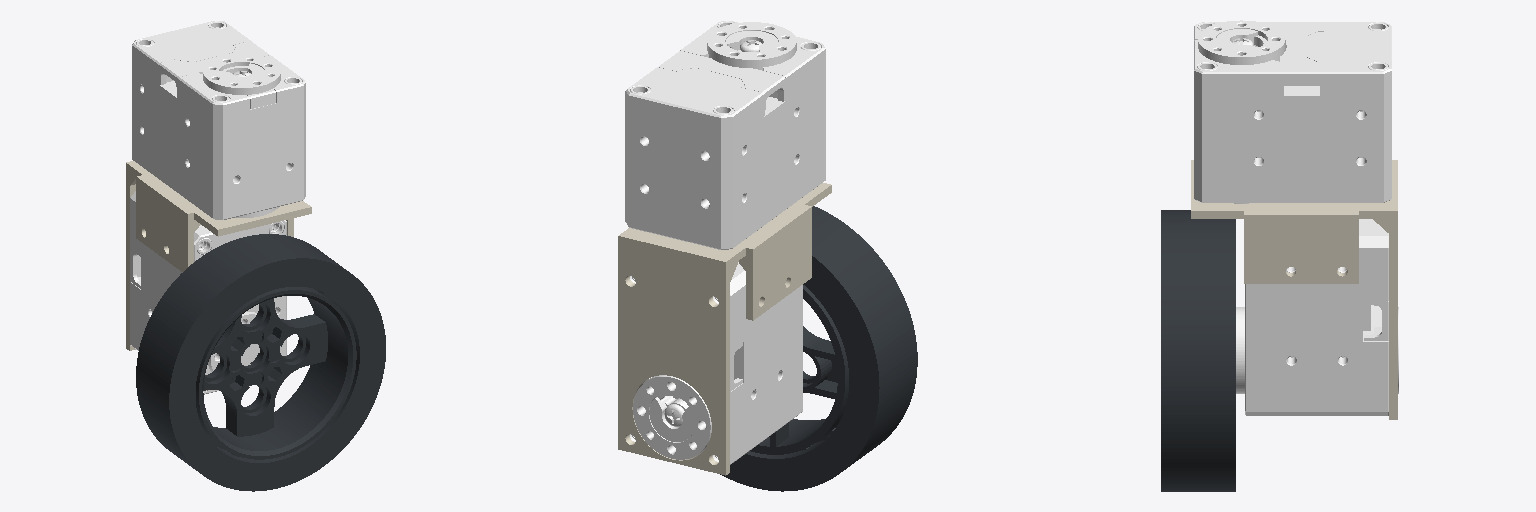
The robot description file, URDF, robot "swerve_drive":
<?xml version="1.0" ?>
<!-- =================================================================================== -->
<!-- |    This document was autogenerated by xacro from src/swerve_drive/urdf/swerve_drive.xacro | -->
<!-- |    EDITING THIS FILE BY HAND IS NOT RECOMMENDED                                 | -->
<!-- =================================================================================== -->
<robot name="swerve_drive" xmlns:controller="http://playerstage.sourceforge.net/gazebo/xmlschema/#controller" xmlns:interface="http://playerstage.sourceforge.net/gazebo/xmlschema/#interface" xmlns:sensor="http://playerstage.sourceforge.net/gazebo/xmlschema/#sensor" xmlns:xacro="http://www.ros.org/wiki/xacro">
  <link name="swerve_base_link"/>
  <joint name="swerve_base_joint" type="fixed">
    <parent link="swerve_base_link"/>
    <child link="xl430_steer"/>
    <origin xyz="0 0 0"/>
  </joint>
  <link name="xl430_steer">
    <visual>
      <origin rpy="0 3.14159265359 3.14159265359" xyz="0 0 0.018"/>
      <geometry>
        <mesh filename="package://swerve_drive/mesh/XL430.dae"/>
      </geometry>
    </visual>
    <collision>
      <origin rpy="0 3.14159265359 3.14159265359" xyz="0 0 0.018"/>
      <geometry>
        <mesh filename="package://swerve_drive/mesh/XL430.dae"/>
      </geometry>
    </collision>
  </link>
  <joint name="steer" type="revolute">
    <parent link="xl430_steer"/>
    <child link="xl430_bracket"/>
    <origin rpy="0 0 0" xyz="0 -0.0003 -0.0435"/>
    <axis xyz="0 0 -1"/>
    <limit effort="300" lower="-1.57" upper="1.57" velocity="0.1"/>
  </joint>
  <link name="xl430_bracket">
    <visual>
      <origin rpy="0 0 0" xyz="0 -0.001 0"/>
      <geometry>
        <mesh filename="package://swerve_drive/mesh/XL430_BRACKET.dae"/>
      </geometry>
    </visual>
    <collision>
      <origin rpy="0 0 0" xyz="0 -0.001 0"/>
      <geometry>
        <mesh filename="package://swerve_drive/mesh/XL430_BRACKET.dae"/>
      </geometry>
    </collision>
  </link>
  <joint name="bracket2drive" type="fixed">
    <parent link="xl430_bracket"/>
    <child link="xl430_drive"/>
    <origin xyz="0 0 0"/>
    <axis xyz="0 1 0"/>
  </joint>
  <link name="xl430_drive">
    <visual>
      <origin rpy="1.57079632679 3.14159265359 0" xyz="0 0.018 0.0"/>
      <geometry>
        <mesh filename="package://swerve_drive/mesh/XL430.dae"/>
      </geometry>
    </visual>
    <collision>
      <origin rpy="1.57079632679 3.14159265359 0" xyz="0 0.018 0.0"/>
      <geometry>
        <mesh filename="package://swerve_drive/mesh/XL430.dae"/>
      </geometry>
    </collision>
  </link>
  <joint name="drive" type="continuous">
    <parent link="xl430_drive"/>
    <child link="tb3_wheel"/>
    <origin rpy="0 0 0" xyz="0 0 0"/>
    <axis xyz="0 -1 0"/>
  </joint>
  <link name="tb3_wheel">
    <visual>
      <origin rpy="0 0 3.14159265359" xyz="0 -0.01 0"/>
      <geometry>
        <mesh filename="package://swerve_drive/mesh/TB3_WHEEL.dae"/>
      </geometry>
    </visual>
    <collision>
      <origin rpy="0 0 3.14159265359" xyz="0 -0.01 0"/>
      <geometry>
        <mesh filename="package://swerve_drive/mesh/TB3_WHEEL.dae"/>
      </geometry>
    </collision>
  </link>
</robot>

--- What the picture shows (computed from the rendered views, not written in the file) ---
The picture shows the robot from 3 angles, left to right: view 1: azimuth 30°, elevation 25°; view 2: azimuth 150°, elevation 25°; view 3: azimuth 270°, elevation 25°; orthographic projection.
Model swerve_drive with 5 links and 4 joints (1 revolute, 1 continuous, 2 fixed), rooted at swerve_base_link, posed every joint at zero.
Visible links, largest first — view 1: tb3_wheel, xl430_steer, xl430_bracket, xl430_drive; view 2: xl430_steer, xl430_bracket, tb3_wheel, xl430_drive; view 3: xl430_steer, xl430_drive, tb3_wheel, xl430_bracket.
Link boxes in pixels (x1,y1,x2,y2): tb3_wheel: (136, 234, 385, 491); xl430_steer: (132, 21, 305, 219); xl430_bracket: (126, 161, 311, 350); xl430_drive: (130, 191, 286, 394); xl430_steer: (625, 21, 825, 249); xl430_bracket: (618, 183, 831, 475); tb3_wheel: (720, 206, 917, 491); xl430_drive: (630, 262, 802, 464); xl430_steer: (1194, 20, 1391, 203); xl430_drive: (1236, 219, 1398, 415); tb3_wheel: (1161, 210, 1235, 491); xl430_bracket: (1191, 160, 1397, 419).
Bounding box of the posed robot: 0.066 × 0.0555 × 0.1135 m (x, y, z).
4 mesh visuals loaded from 3 distinct referenced files (3 Collada DAE).